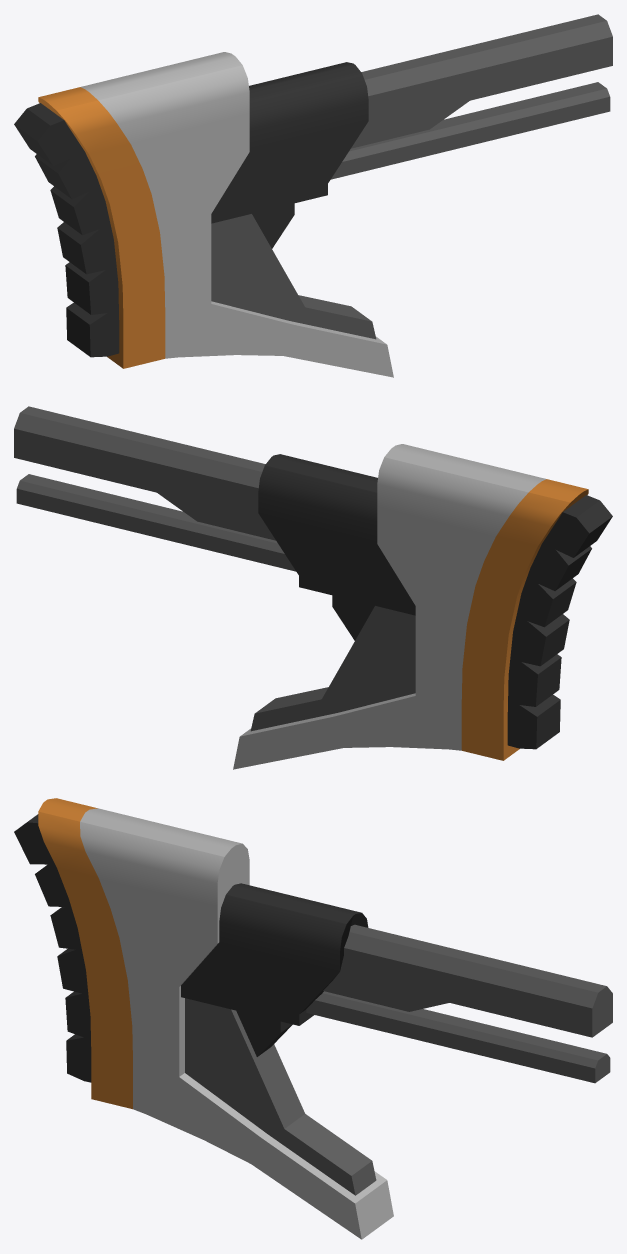
File: Stock_AR_1.gltf
The picture shows the model from 3 angles, top to bottom: view 1: azimuth 30°, elevation 25°; view 2: azimuth 150°, elevation 25°; view 3: azimuth 330°, elevation 25°; orthographic projection.
Visible parts, largest first — view 1: Stock_AR_1; view 2: Stock_AR_1; view 3: Stock_AR_1.
Part boxes in pixels (x1=…): Stock_AR_1: x1=14, y1=14, x2=612, y2=377; Stock_AR_1: x1=14, y1=406, x2=612, y2=769; Stock_AR_1: x1=14, y1=798, x2=612, y2=1239.
Bounding box in the file's own units: 0.7725 × 0.4427 × 0.0746.
